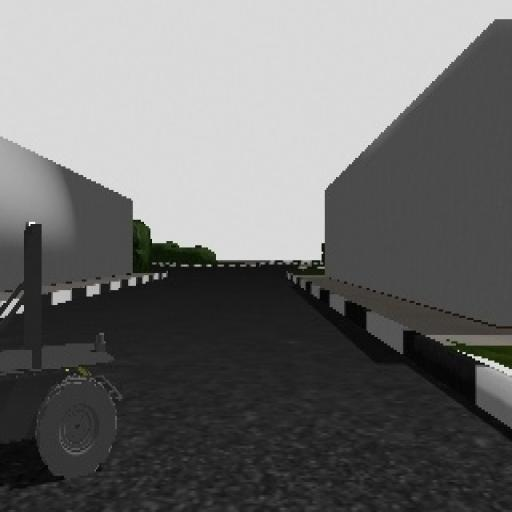huskya200: (0, 198, 124, 508)
